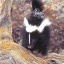skunk: (23, 1, 49, 55)
